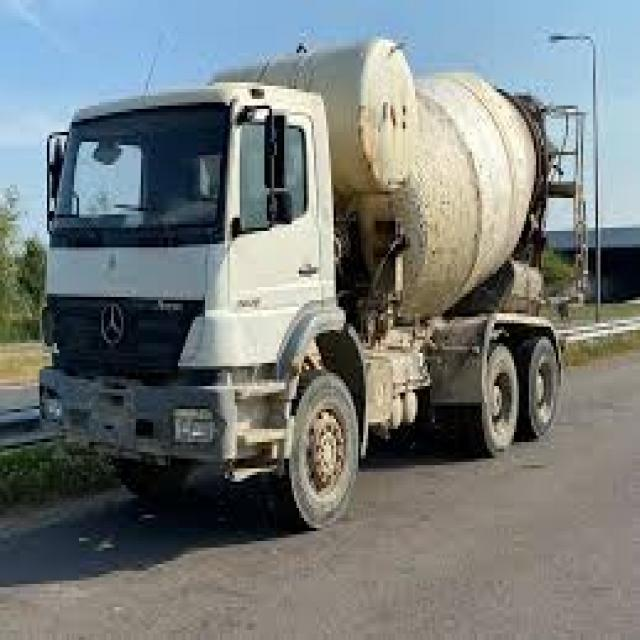Mixer Truck: (36, 30, 590, 532)
